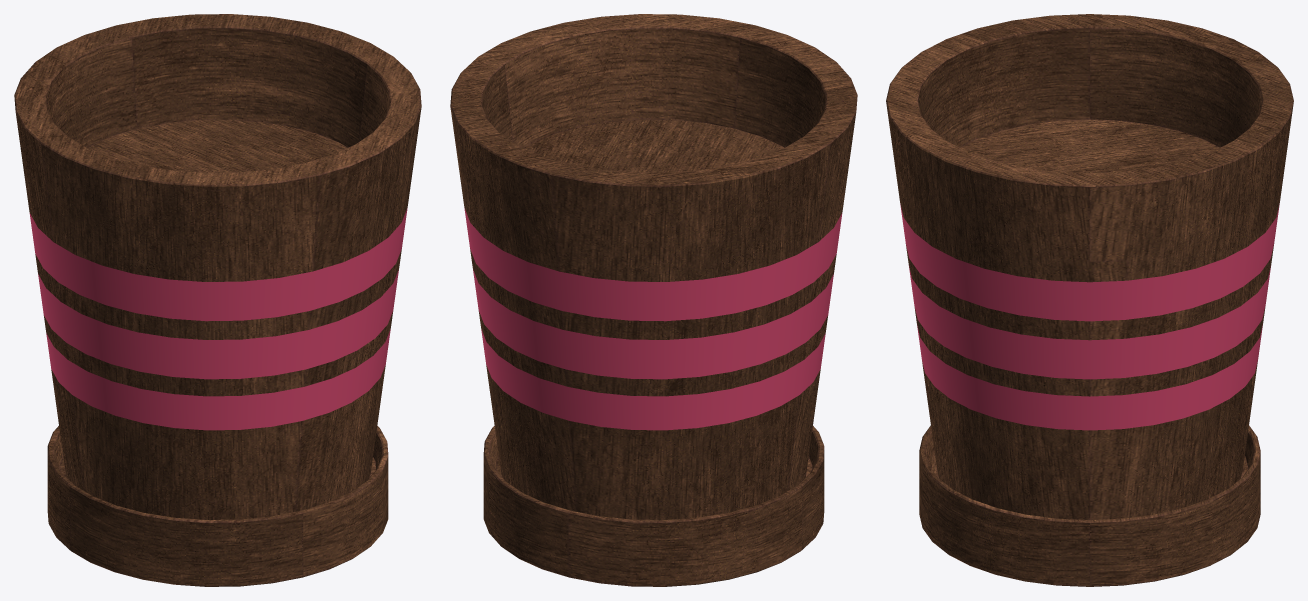
File: donica_paski_czerwona.fbx
3 renders of one model, left to right at view 1: azimuth 30°, elevation 25°; view 2: azimuth 150°, elevation 25°; view 3: azimuth 270°, elevation 25°, orthographic.
Visible parts, largest first — view 1: donica.004; view 2: donica.004; view 3: donica.004.
Part boxes in pixels (left/top/right/bottom): donica.004: left=14, top=14, right=421, bottom=586; donica.004: left=450, top=14, right=857, bottom=586; donica.004: left=886, top=14, right=1293, bottom=586.
Size of the model in its own units: 141 by 162 by 141.
2 materials, 1 textured.
